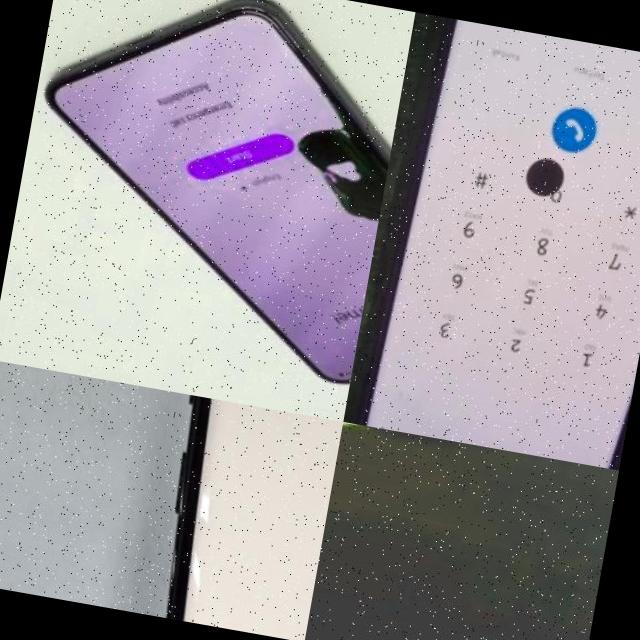dead pixel: (220, 73, 399, 334), (354, 406, 406, 432)
